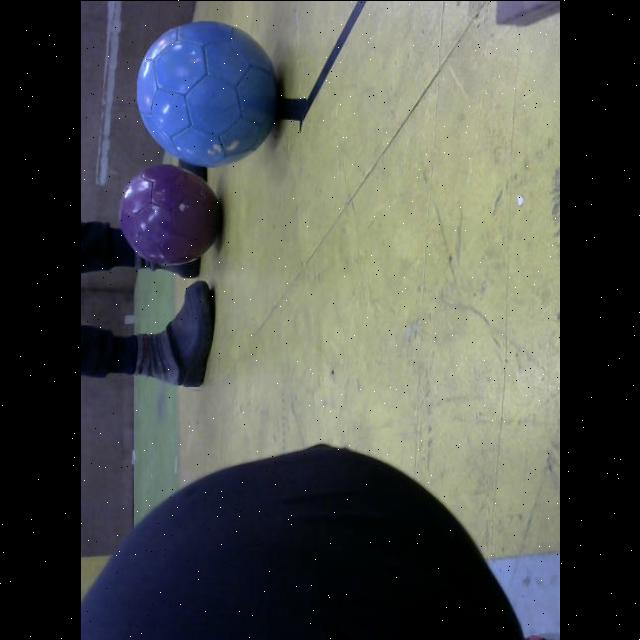B: (133, 19, 280, 168)
P: (117, 163, 220, 265)
